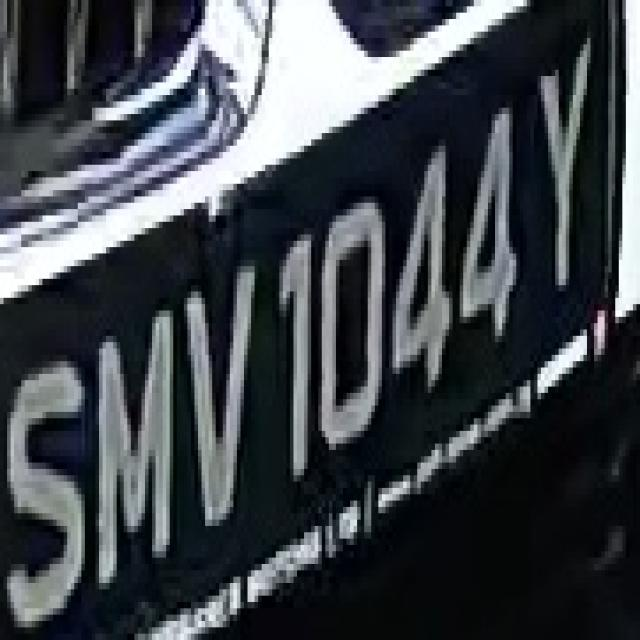0: (308, 209, 400, 475)
1: (268, 234, 322, 488)
4: (456, 95, 531, 361), (386, 146, 464, 399)
M: (71, 310, 180, 596)
S: (14, 329, 88, 640)
V: (173, 266, 262, 545)
Y: (523, 44, 601, 310)
